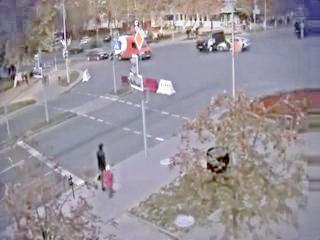Car: (112, 37, 152, 60), (197, 28, 226, 52), (218, 37, 253, 54), (88, 49, 110, 62)
Minor Accident: (195, 26, 255, 57)
